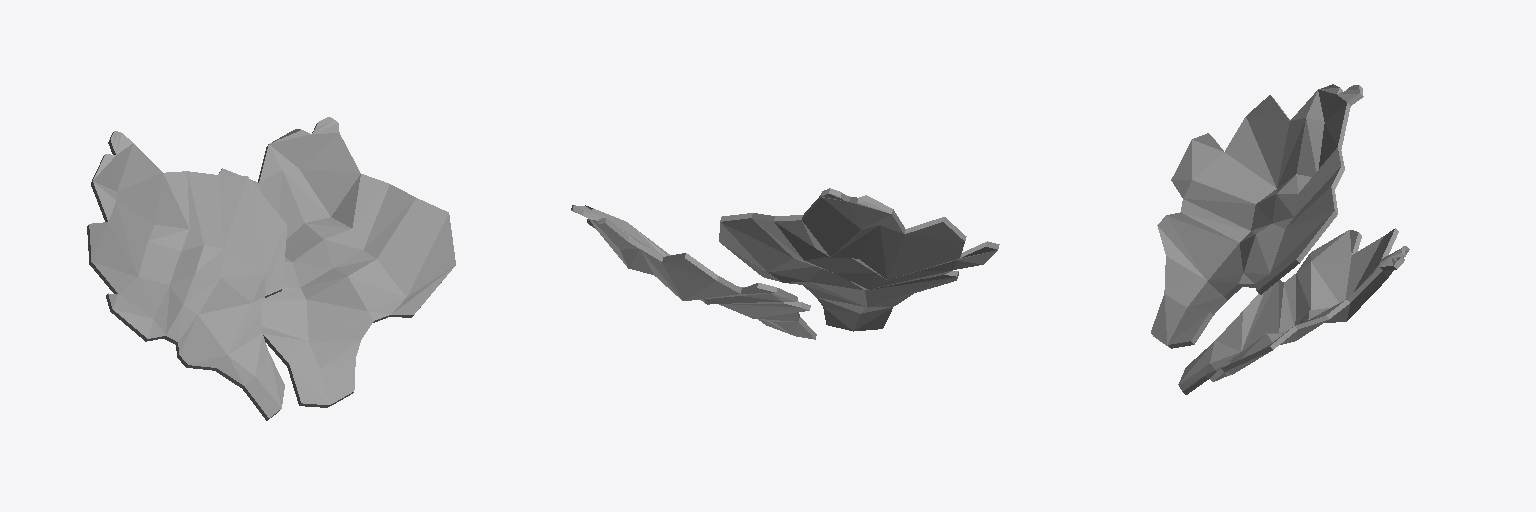
Rendered from Lettuse.obj.
The picture shows the model from 3 angles: view 1: azimuth 30°, elevation 25°; view 2: azimuth 150°, elevation 25°; view 3: azimuth 270°, elevation 25°; orthographic projection.
Parts seen in each view (by area): view 1: Plane_Plane.009; view 2: Plane_Plane.009; view 3: Plane_Plane.009.
Boxes of the visible parts, x1=… form: Plane_Plane.009: x1=87, y1=117, x2=455, y2=420; Plane_Plane.009: x1=571, y1=188, x2=999, y2=339; Plane_Plane.009: x1=1151, y1=84, x2=1409, y2=394.
Bounding box in the file's own units: 11.81 × 7.3 × 7.05.